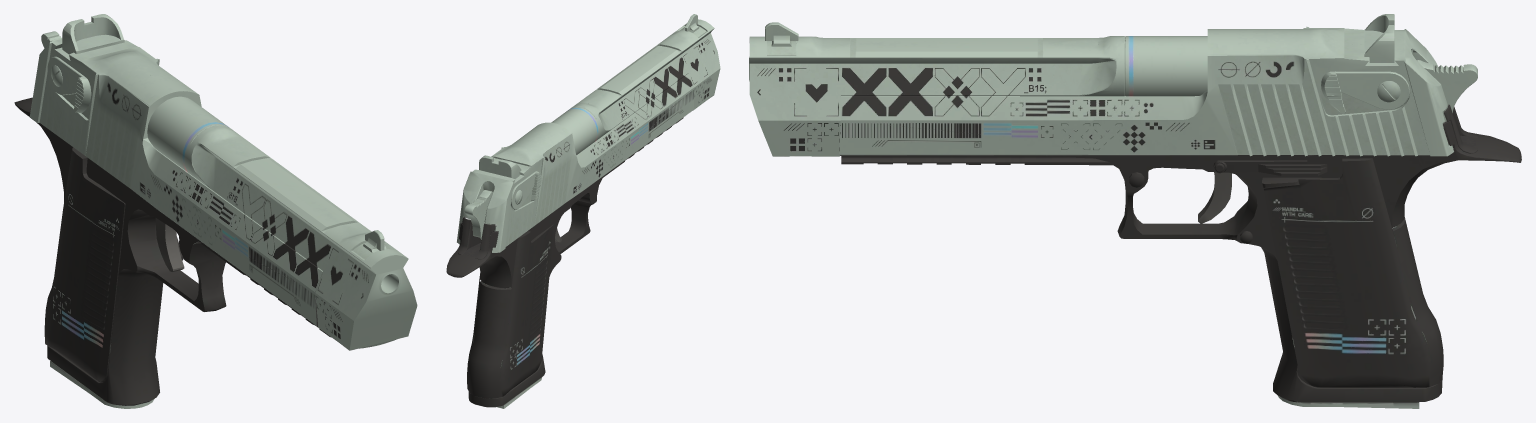
Rendered from deagle-printstream.glb.
The picture shows the model from 3 angles, left to right: view 1: azimuth 30°, elevation 25°; view 2: azimuth 150°, elevation 25°; view 3: azimuth 270°, elevation 25°; orthographic projection. The views are drawn at different scales.
Visible parts, largest first — view 1: Desert Eagle | Printstream; view 2: Desert Eagle | Printstream; view 3: Desert Eagle | Printstream.
Boxes of the visible parts, <box> form: Desert Eagle | Printstream: <box>14,14,417,408</box>; Desert Eagle | Printstream: <box>446,14,720,408</box>; Desert Eagle | Printstream: <box>749,14,1521,408</box>.
Bounding box in the file's own units: 0.033 × 0.154 × 0.2888.
1 material, 1 textured.
